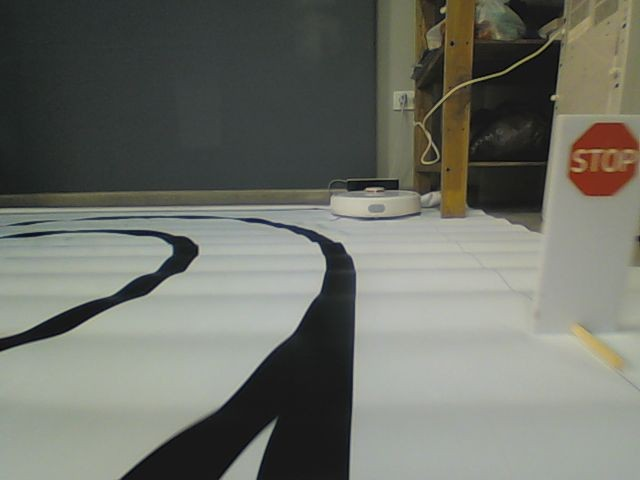Stop: (565, 121, 640, 197)
